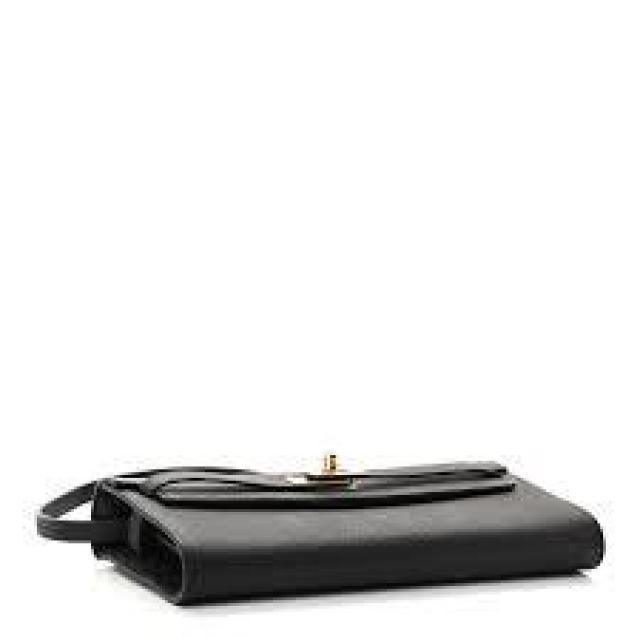cuzdan: (97, 463, 600, 598)
